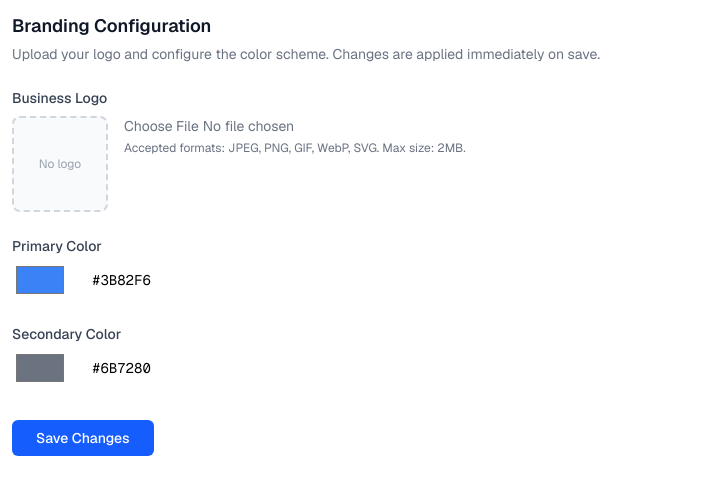
BrandingSettings › Validates color fields › shows error for invalid hex color in primary color
The image size is (702, 497).
Type "notacolor" into the field labelled "Primary Color" at (382, 280), box x1=80 y1=262 x2=684 y2=298
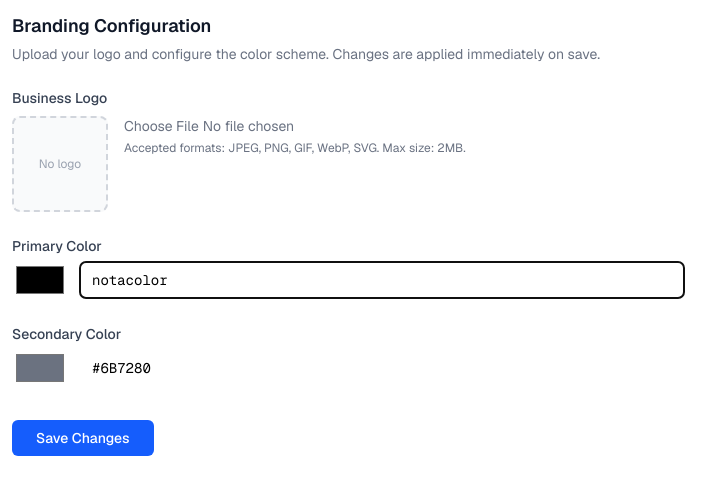
Click the button "Save Changes" at (83, 438), box x1=12 y1=420 x2=154 y2=456
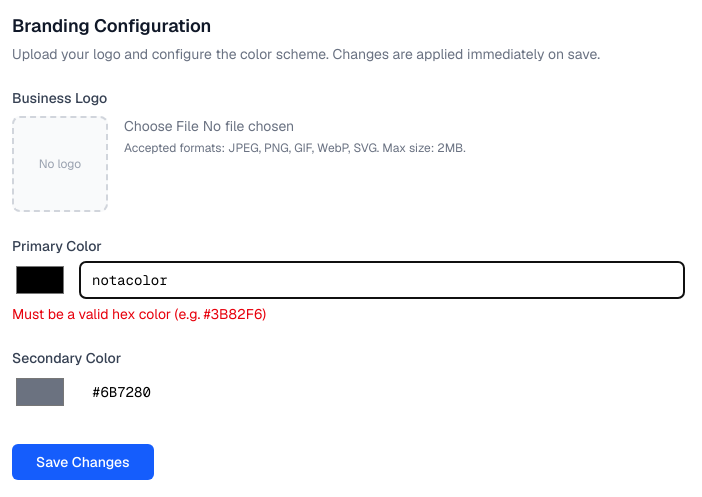
Check: the text "Must be a valid hex color (e.g. #3B82F6)" is shown, box x1=12 y1=305 x2=266 y2=323
